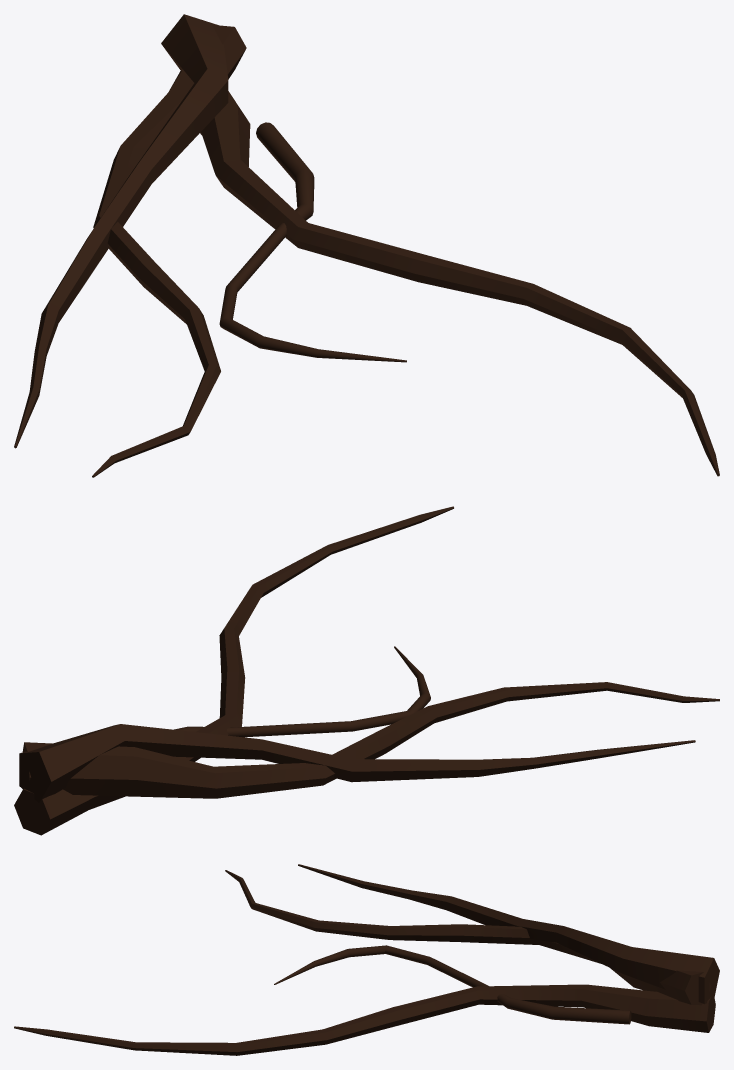
Rendered from SM_roots_jungle_04.fbx.
3 renders of one model, top to bottom at view 1: azimuth 30°, elevation 25°; view 2: azimuth 150°, elevation 25°; view 3: azimuth 270°, elevation 25°, orthographic. The views are drawn at different scales.
Parts seen in each view (by area): view 1: Line006; view 2: Line006; view 3: Line006.
Part boxes in pixels (x1,y1,x2,y2): Line006: (14,14,719,477); Line006: (14,506,719,835); Line006: (14,864,719,1055).
Size of the model in its own units: 148 by 24.35 by 231.
